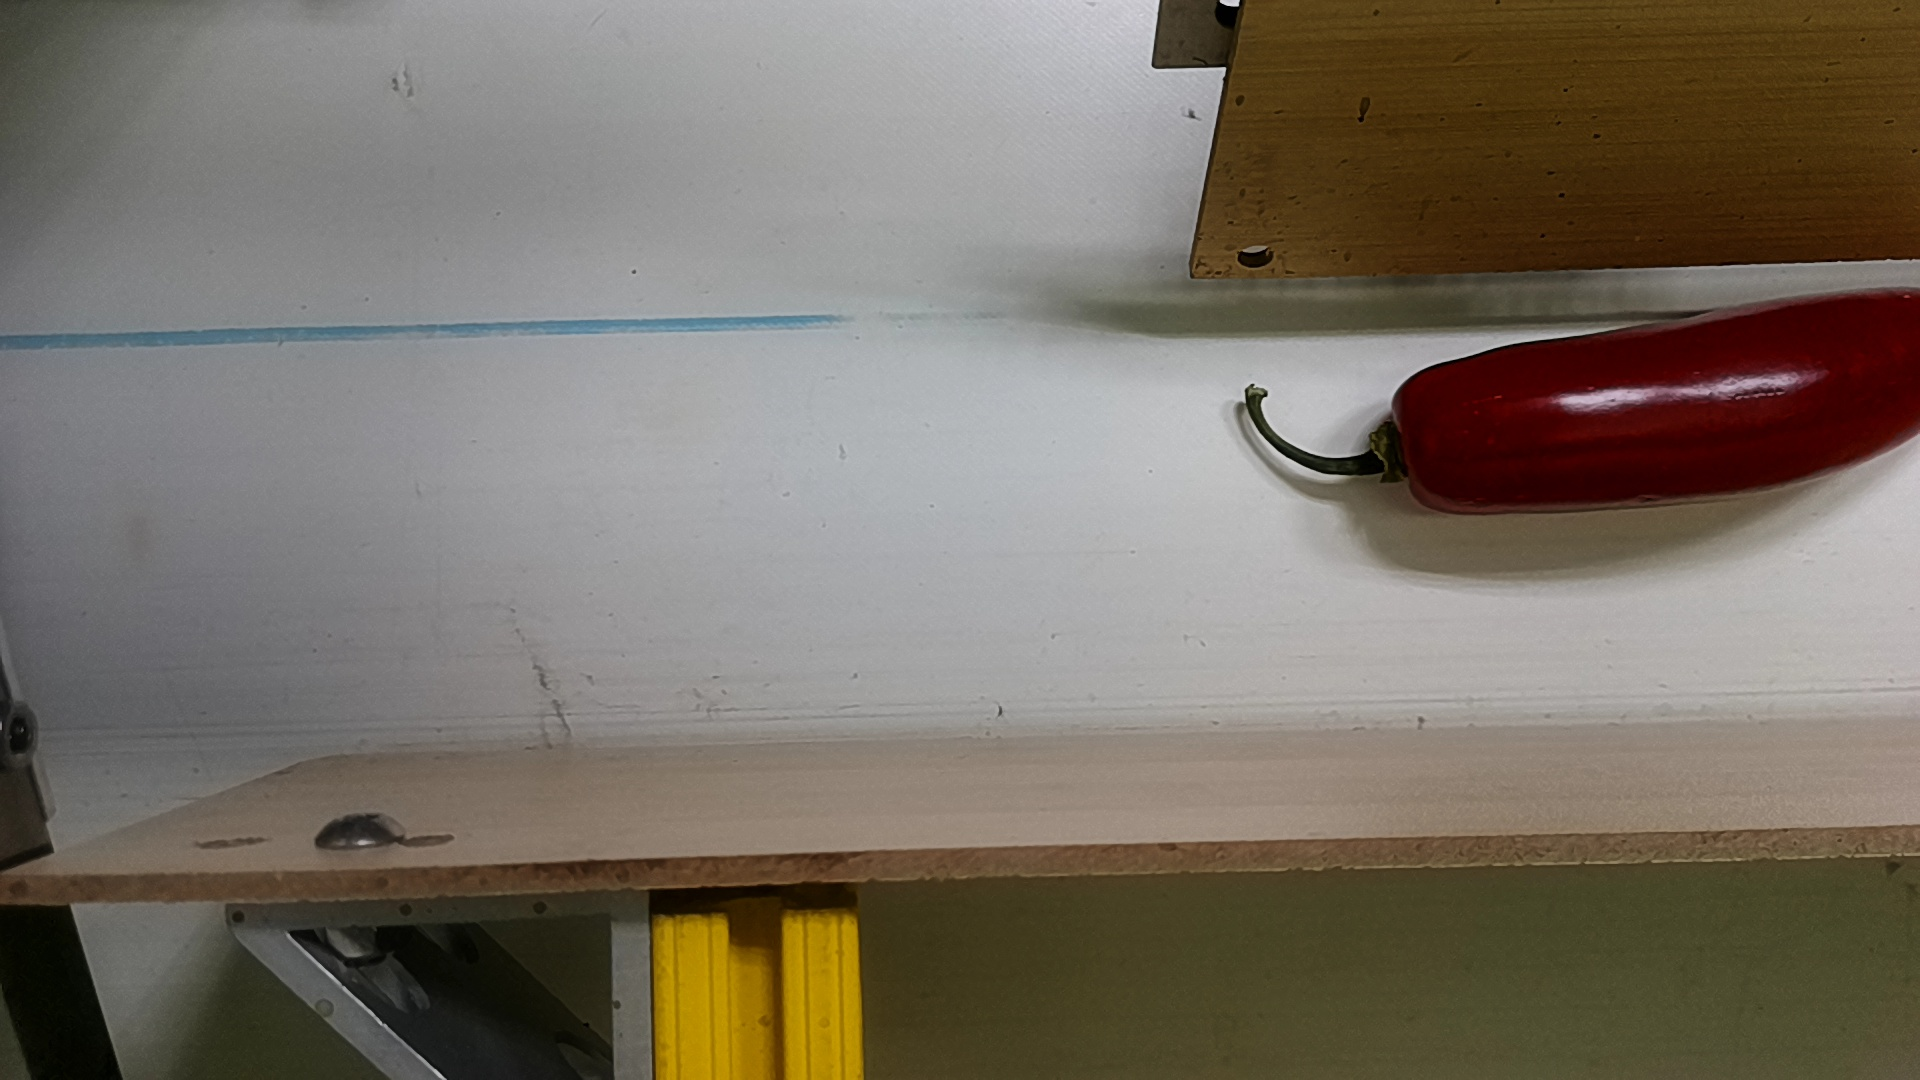Cut Point: (1370, 357, 1461, 522)
